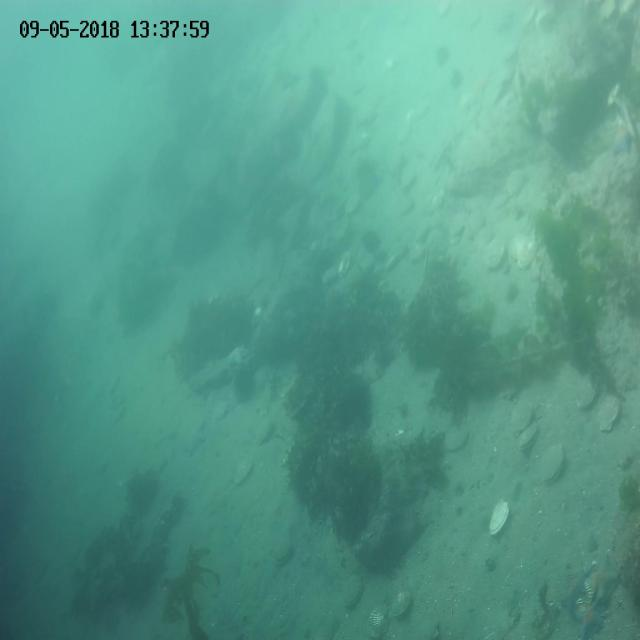scallop: (538, 442, 568, 486), (366, 603, 392, 640), (487, 499, 511, 539), (339, 574, 364, 610), (596, 395, 621, 431), (508, 400, 534, 434), (410, 612, 440, 640), (383, 590, 413, 617), (518, 421, 542, 454), (445, 426, 471, 452), (232, 458, 254, 487), (446, 210, 468, 238), (515, 243, 537, 270), (486, 245, 508, 272), (575, 387, 597, 414), (428, 229, 450, 255), (273, 539, 294, 566), (465, 215, 487, 240), (476, 227, 500, 248), (398, 166, 416, 192), (504, 171, 524, 194), (416, 219, 437, 239), (321, 264, 340, 284), (407, 242, 425, 263), (338, 253, 353, 278), (344, 193, 360, 214), (397, 197, 412, 215)
starfish: (584, 554, 626, 606), (570, 597, 607, 640), (177, 422, 208, 460), (610, 124, 635, 160), (226, 340, 252, 370)
